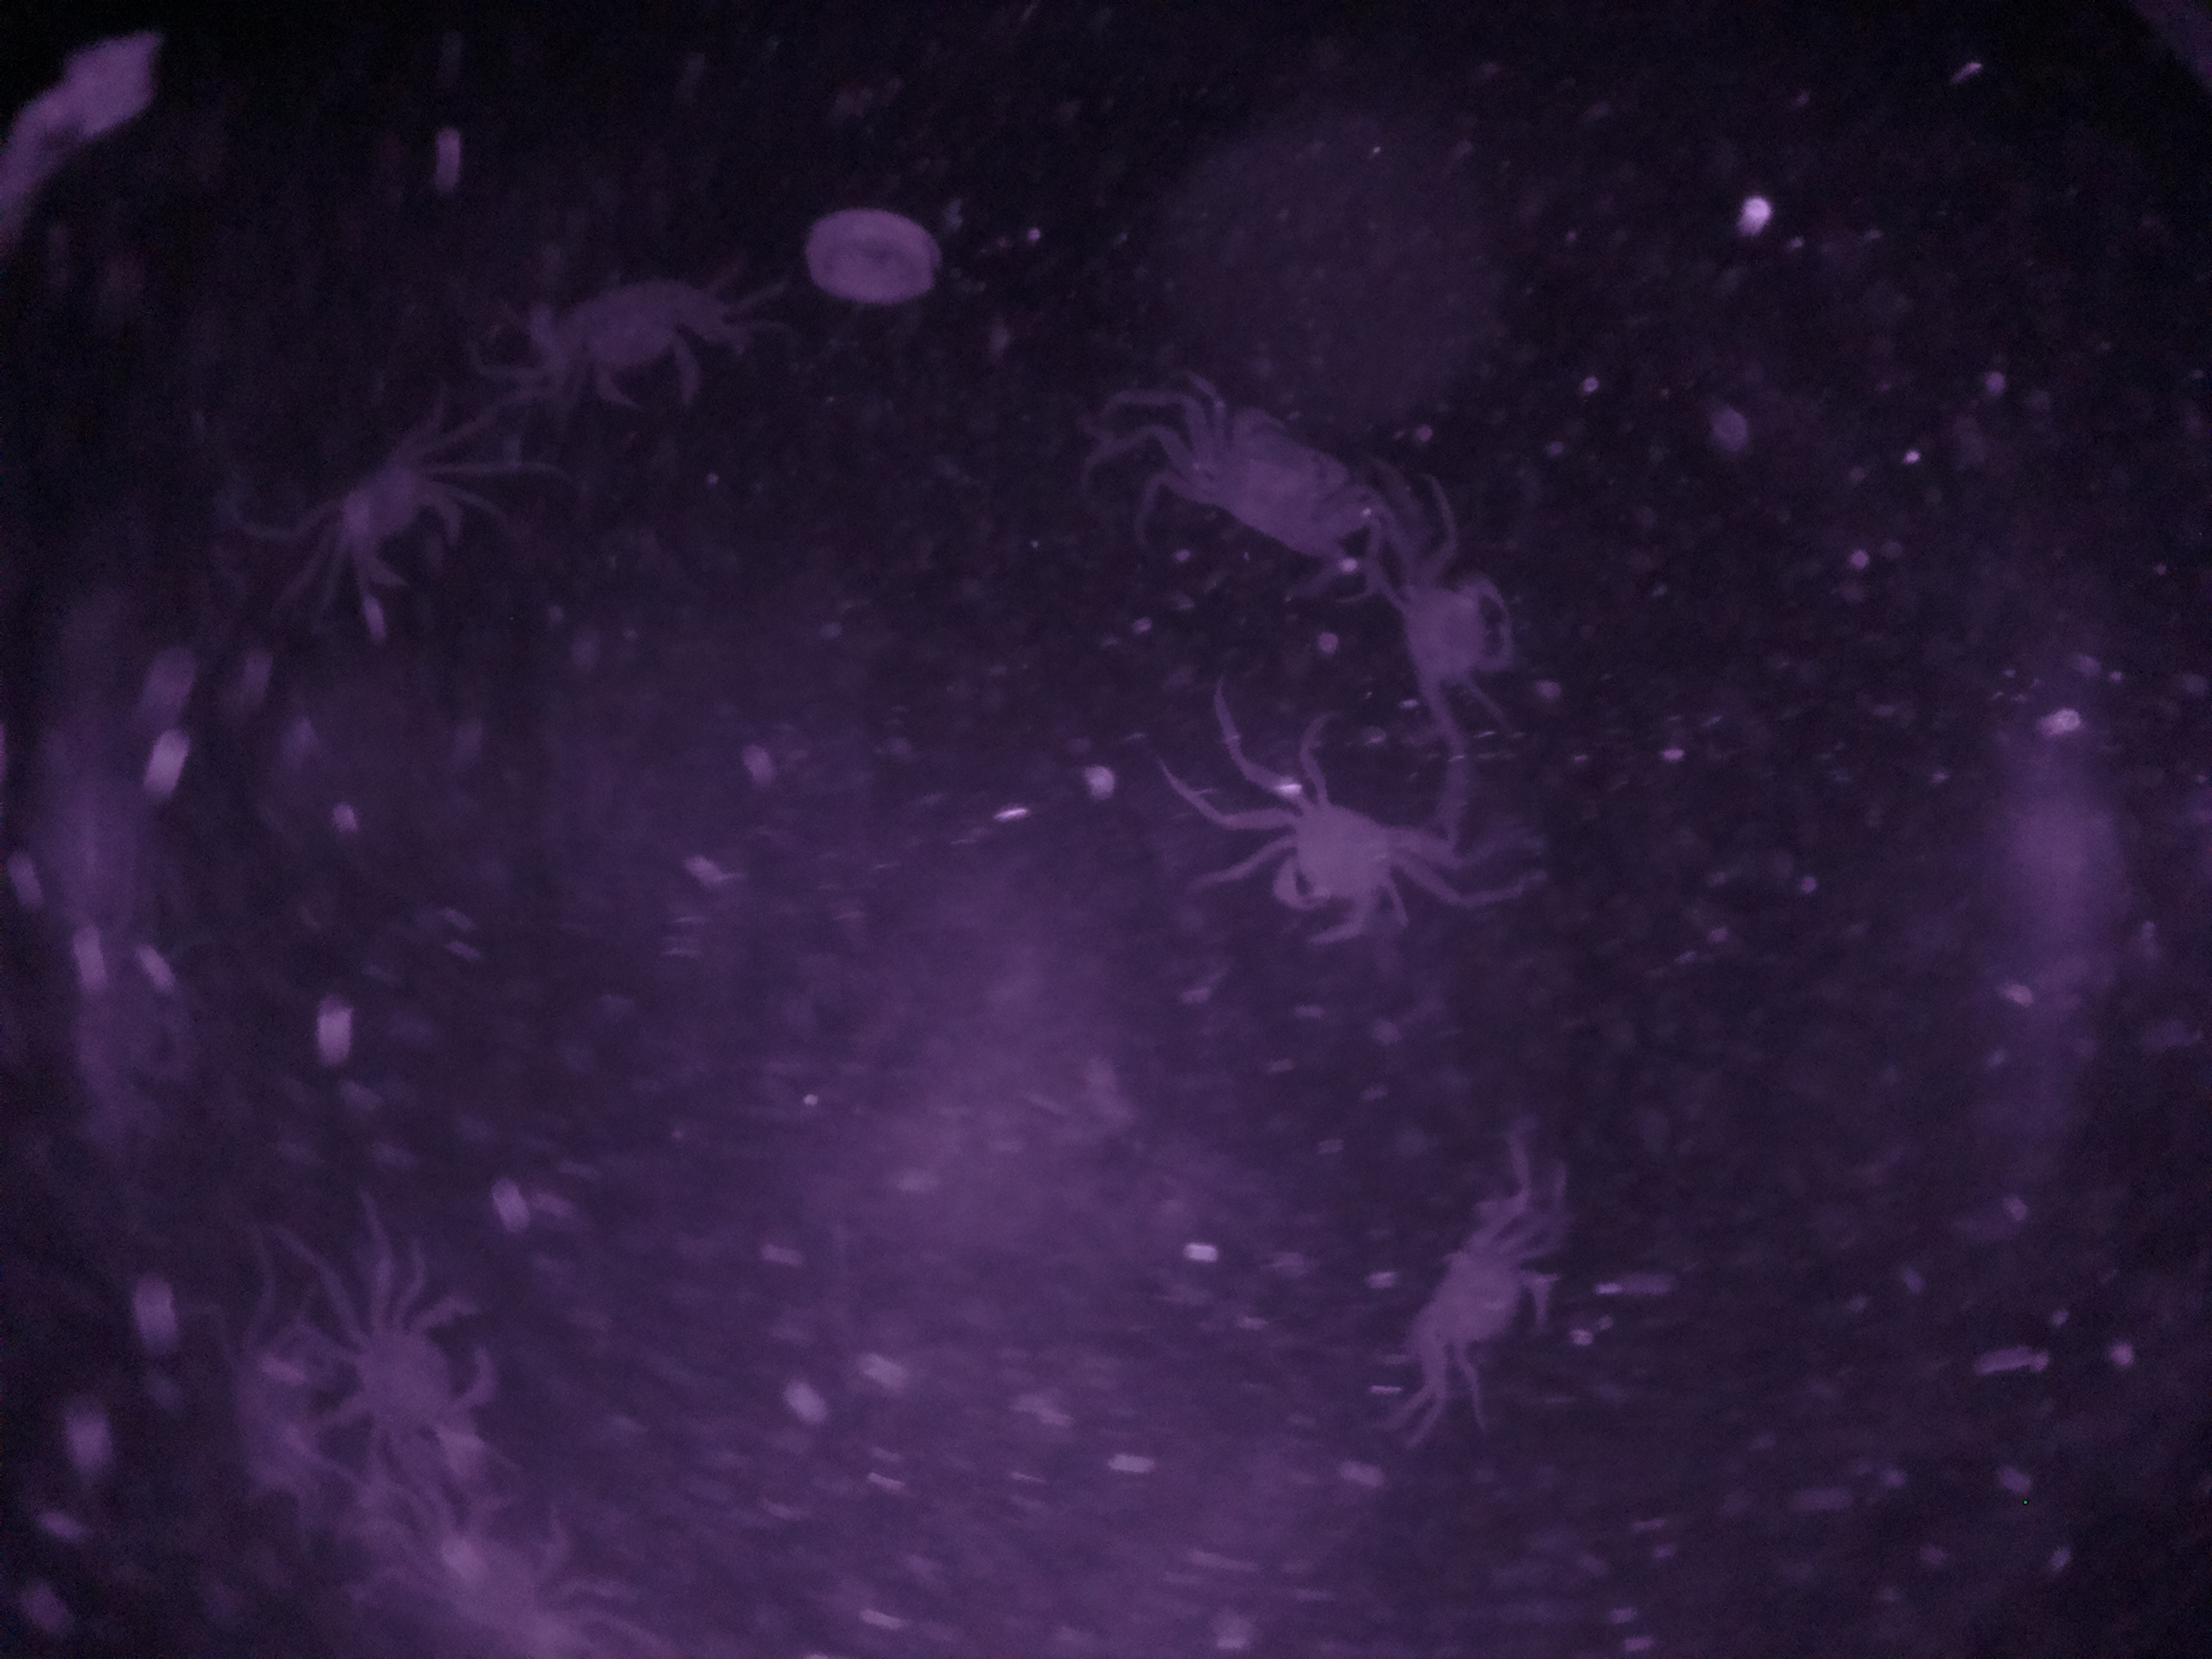Crab: (1197, 737, 1474, 953), (1129, 385, 1393, 586), (298, 425, 512, 636)
